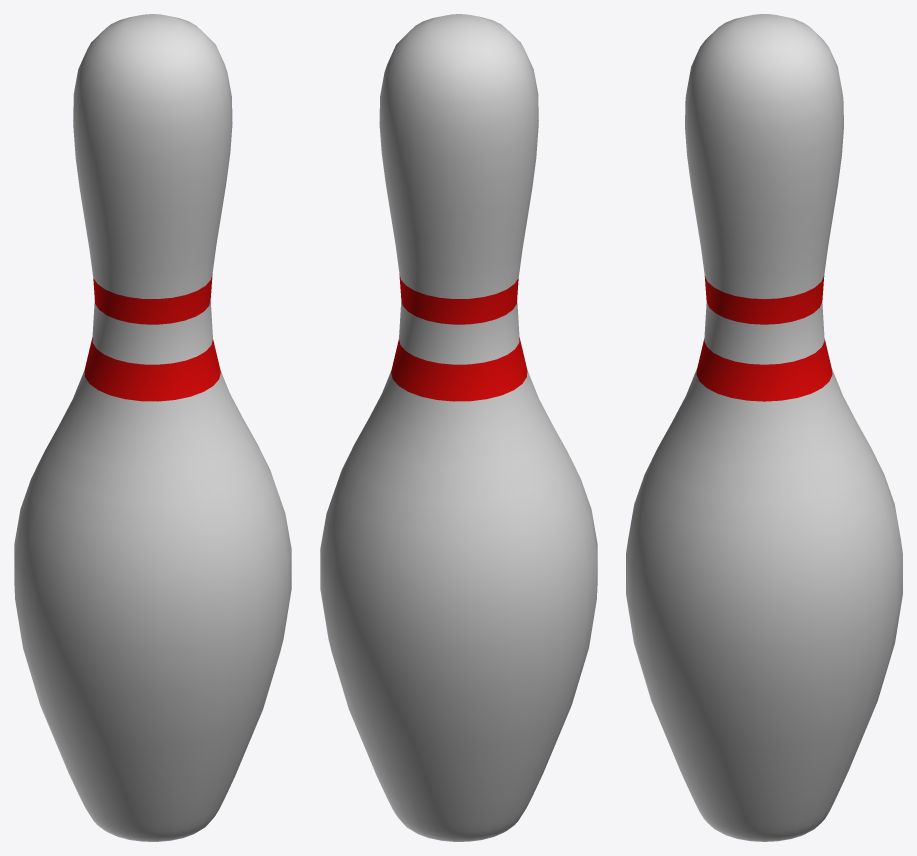
The model's file is BowlingPin.fbx.
The picture shows the model from 3 angles, left to right: view 1: azimuth 30°, elevation 25°; view 2: azimuth 150°, elevation 25°; view 3: azimuth 270°, elevation 25°; orthographic projection.
Parts seen in each view (by area): view 1: Pin; view 2: Pin; view 3: Pin.
Part boxes in pixels (bbox=[...]): Pin: bbox=[14, 14, 291, 841]; Pin: bbox=[320, 14, 597, 841]; Pin: bbox=[626, 14, 902, 841].
Size of the model in its own units: 1195 by 3800 by 1195.
